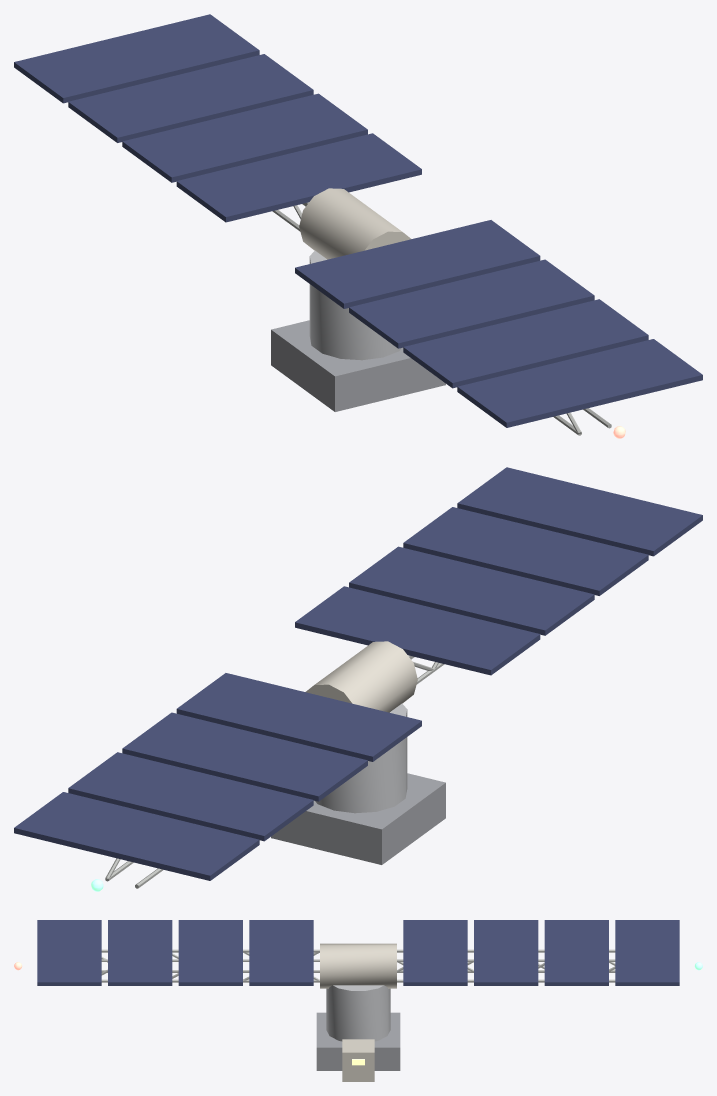
The model's file is render.glb.
3 renders of one model, top to bottom at view 1: azimuth 30°, elevation 25°; view 2: azimuth 150°, elevation 25°; view 3: azimuth 270°, elevation 25°, orthographic. The views are drawn at different scales.
Visible parts, largest first — view 1: panel_s3, panel_p2, panel_p1, panel_s1, panel_p3, panel_s2, panel_s0, panel_p0, base, hub, tracker; view 2: panel_p3, panel_s2, panel_p1, panel_s1, panel_p2, panel_s3, panel_p0, panel_s0, base, hub, tracker; view 3: panel_p0, panel_p1, panel_p2, panel_p3, panel_s0, panel_s1, panel_s2, panel_s3, tracker, hub, base, junction (+2 smaller).
Part boxes in pixels (x1,y1,x2,y2): panel_s3: (457,339,702,427); panel_p2: (68,54,313,142); panel_p1: (122,93,367,182); panel_s1: (349,259,594,348); panel_p3: (14,14,259,103); panel_s2: (403,299,648,388); panel_s0: (295,220,540,308); panel_p0: (176,133,421,222); base: (271,320,445,411); hub: (299,188,411,259); tracker: (309,250,401,360); panel_p3: (14,792,259,880); panel_s2: (403,507,648,595); panel_p1: (122,712,367,801); panel_s1: (349,546,594,635); panel_p2: (68,752,313,841); panel_s3: (457,467,702,556); panel_p0: (176,673,421,761); panel_s0: (295,586,540,675); base: (271,773,445,864); hub: (305,641,417,712); tracker: (315,703,407,813); panel_p0: (403,920,467,985); panel_p1: (474,920,538,985); panel_p2: (544,920,608,985); panel_p3: (615,920,679,985); panel_s0: (249,920,313,985); panel_s1: (178,920,242,985); panel_s2: (108,920,172,985); panel_s3: (37,920,101,985); tracker: (326,985,390,1041); hub: (320,943,396,988); base: (316,1012,400,1070); junction: (342,1039,374,1081).
Bounding box in the file's own units: 4.6 × 3.7 × 21.46.
